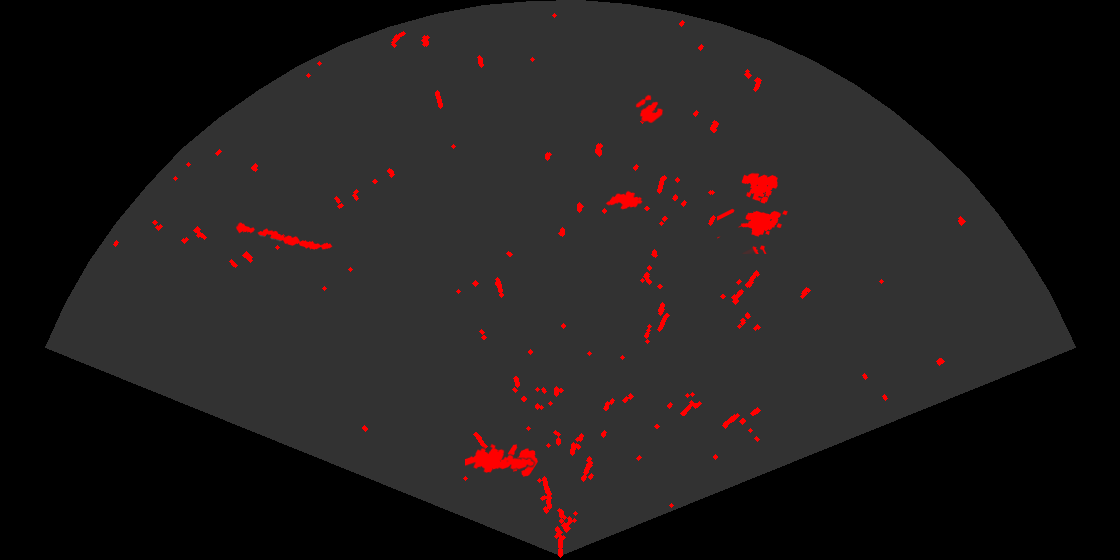AUV: (604, 189, 644, 211)
ball: (506, 443, 540, 478), (634, 93, 665, 125)
cage: (717, 171, 789, 254)
chain: (233, 221, 334, 251)
frogman: (465, 442, 536, 474)
